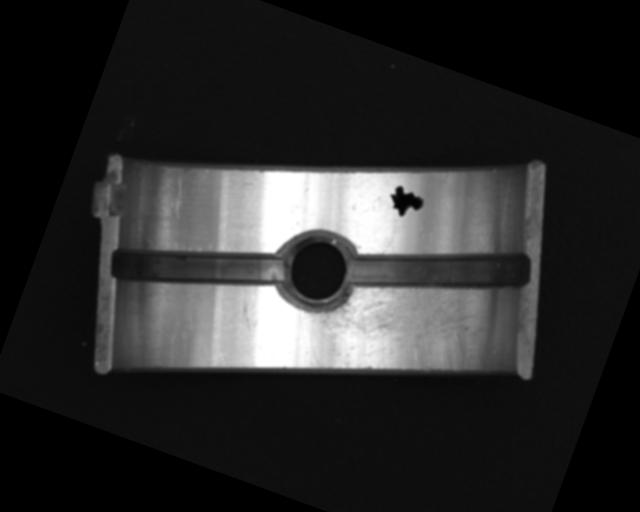blot: (382, 181, 428, 224)
gap: (346, 201, 531, 337), (106, 204, 289, 333)
hole: (267, 216, 368, 322)
nick: (161, 168, 195, 218)
scratch: (288, 240, 502, 427)
